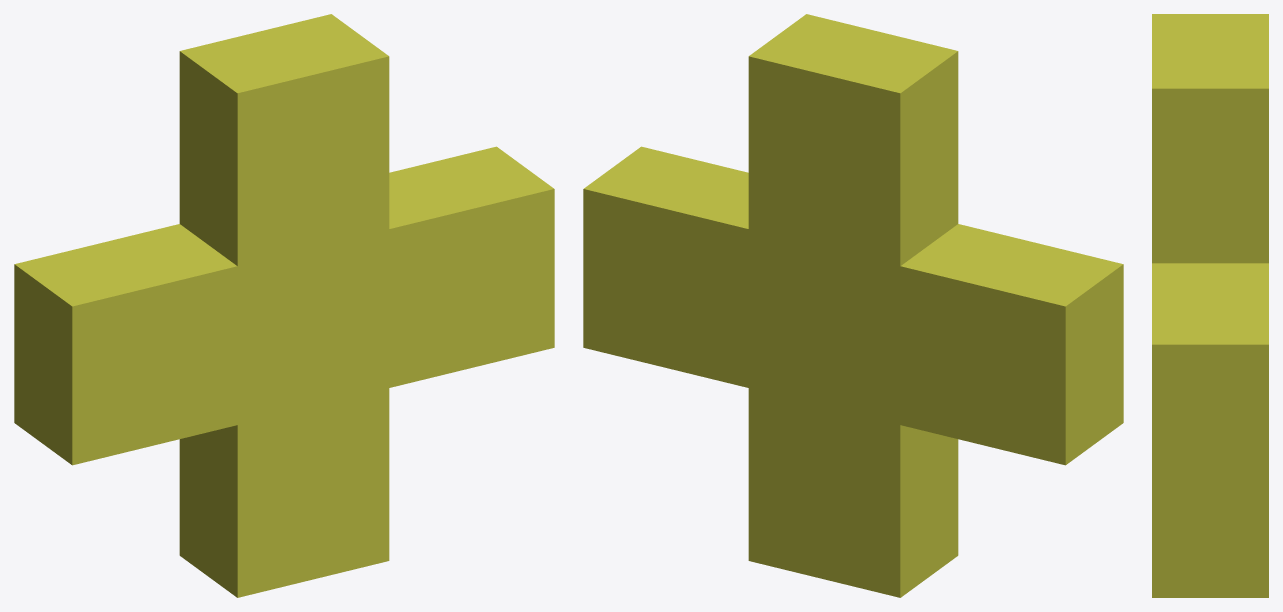
File: 03 plus.FBX
3 views of the same model, side by side, from view 1: azimuth 30°, elevation 25°; view 2: azimuth 150°, elevation 25°; view 3: azimuth 270°, elevation 25° (orthographic).
Parts seen in each view (by area): view 1: SM_Icon_Health_02; view 2: SM_Icon_Health_02; view 3: SM_Icon_Health_02.
Boxes of the visible parts, x1,y1,x2,y2 form: SM_Icon_Health_02: [14, 14, 554, 597]; SM_Icon_Health_02: [583, 14, 1123, 597]; SM_Icon_Health_02: [1152, 14, 1268, 597].
Size of the model in its own units: 52.49 by 52.49 by 10.91.
